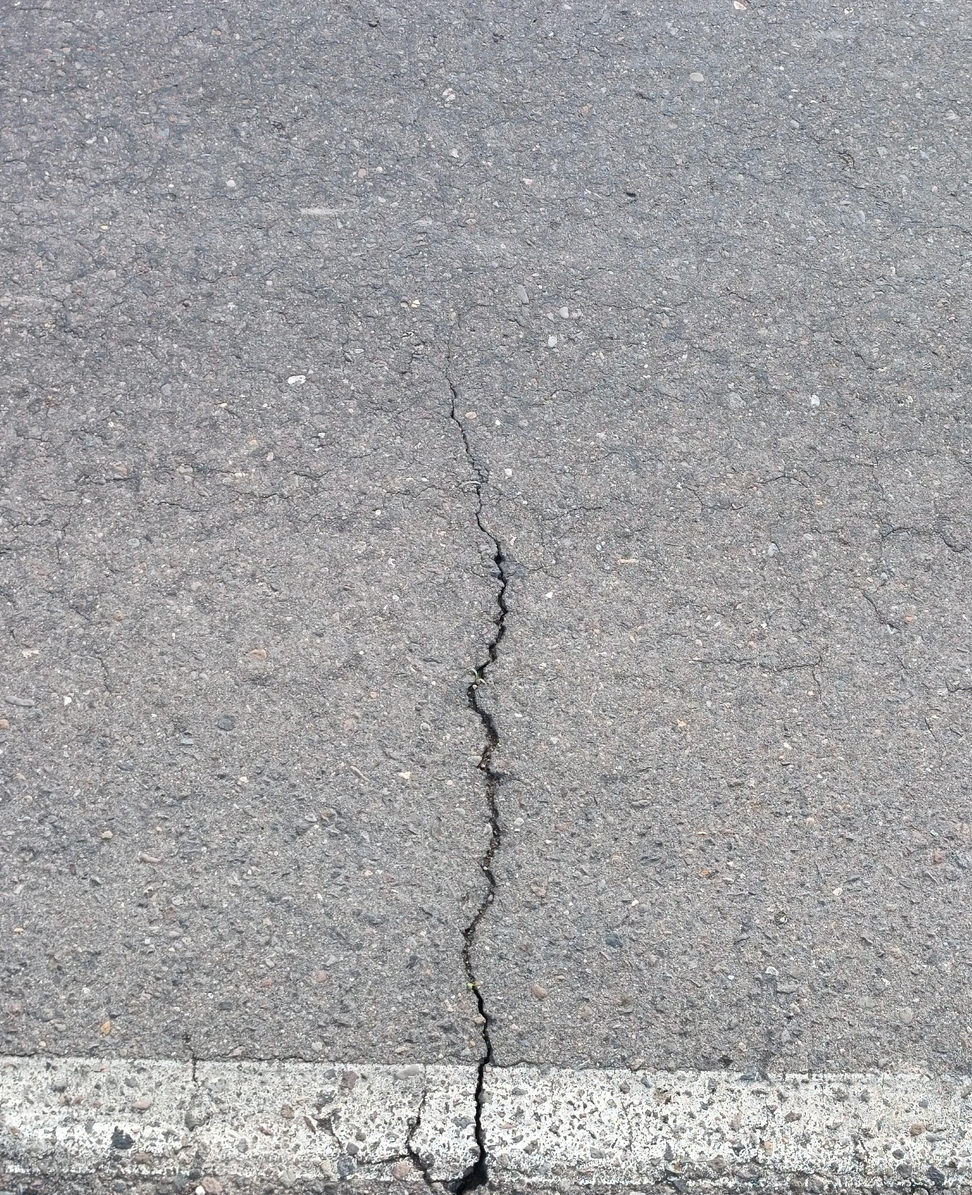GRIETA: (445, 391, 511, 1194), (345, 1090, 428, 1167), (411, 1156, 439, 1195)
PIEL DE COCODRILO: (0, 213, 414, 694), (498, 180, 972, 422), (574, 398, 972, 676)
